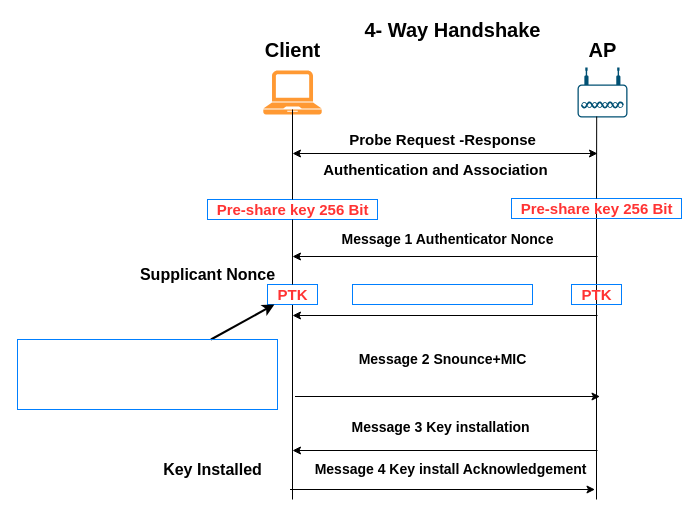
Some shapes in this 699 by 518 pixel diagram are drawn without their labels. Each missing label, with the centre of its shape:
"ANounce +Snounce +pre-shared key +mac Address for Client and AP" goes at pixel 147 374.
"Pairwise Transient Key" goes at pixel 442 294.
